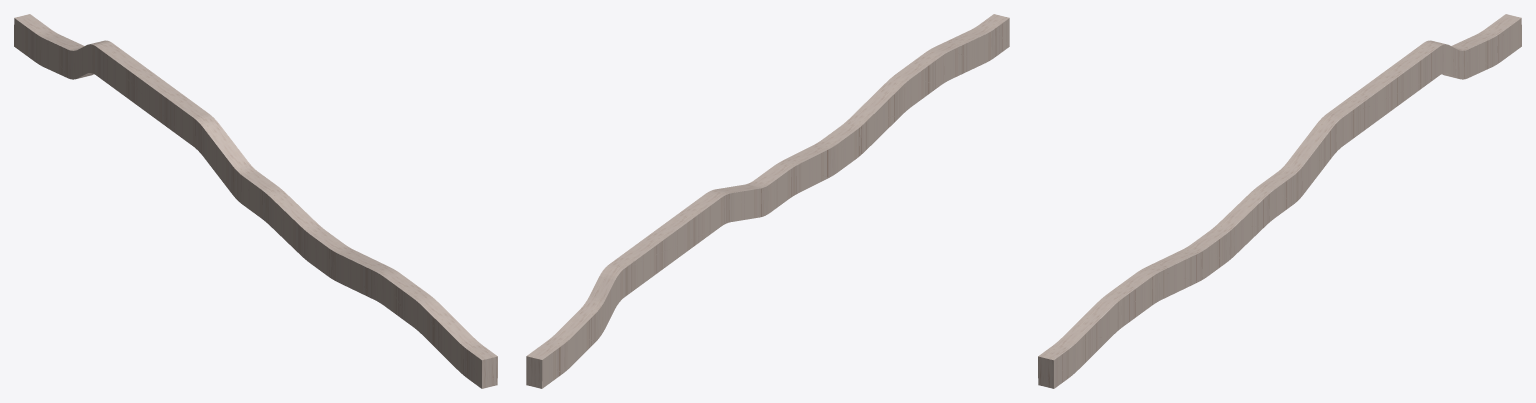
File: road2.fbx
The picture shows the model from 3 angles, left to right: view 1: azimuth 30°, elevation 25°; view 2: azimuth 150°, elevation 25°; view 3: azimuth 330°, elevation 25°; orthographic projection.
Visible parts, largest first — view 1: Plane.002; view 2: Plane.002; view 3: Plane.002.
Boxes of the visible parts, bbox=[...] form: Plane.002: bbox=[14, 14, 497, 388]; Plane.002: bbox=[526, 14, 1009, 388]; Plane.002: bbox=[1038, 14, 1521, 388].
Bounding box in the file's own units: 9.83 × 35.43 × 500.
Materials: 1 (1 with a texture image).
